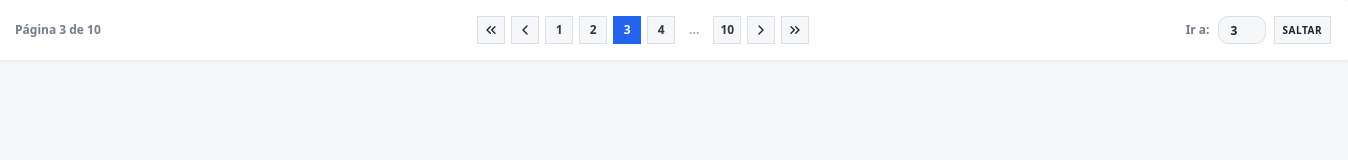
Test: Pagination › no salta a una página fuera de rango
Replace the text in the number field labelled "Ir a:" with "99" at (1242, 30), box [1218,16,1266,44]
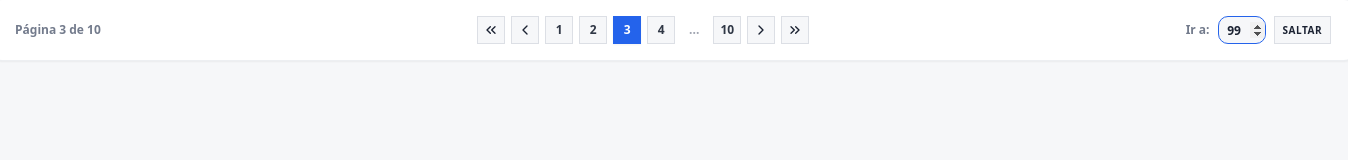
Submit the form labelled "Ir a:", box [1186,16,1331,44]
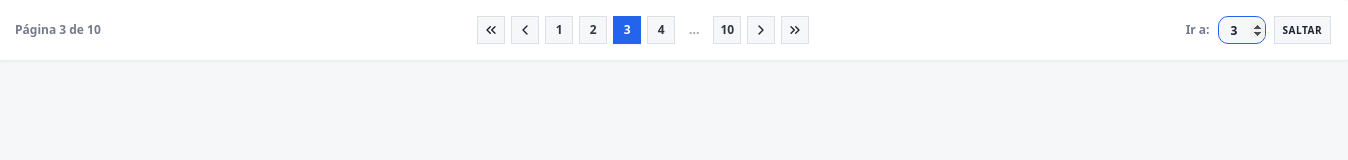
Now the number field labelled "Ir a:" holds "3", box [1218,16,1266,44]
